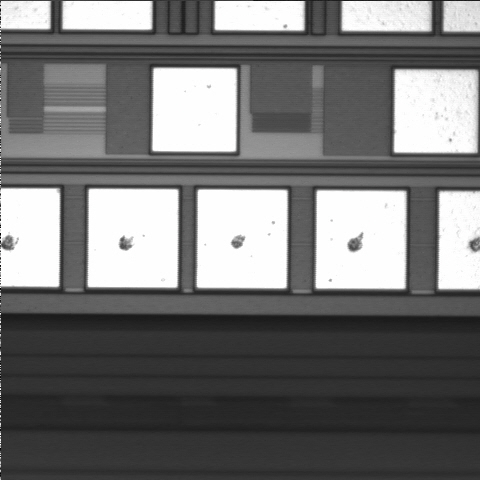pad: (88, 189, 178, 288), (316, 190, 406, 289), (197, 190, 287, 288), (152, 68, 236, 152), (394, 70, 477, 153)
